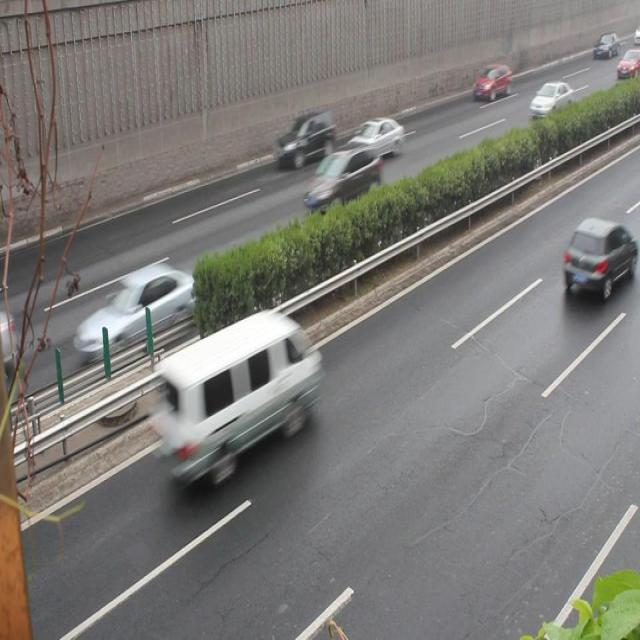car: (74, 262, 192, 360), (559, 216, 630, 296), (301, 140, 378, 208), (272, 106, 334, 164), (341, 114, 402, 159), (526, 77, 570, 117), (470, 62, 511, 100)
